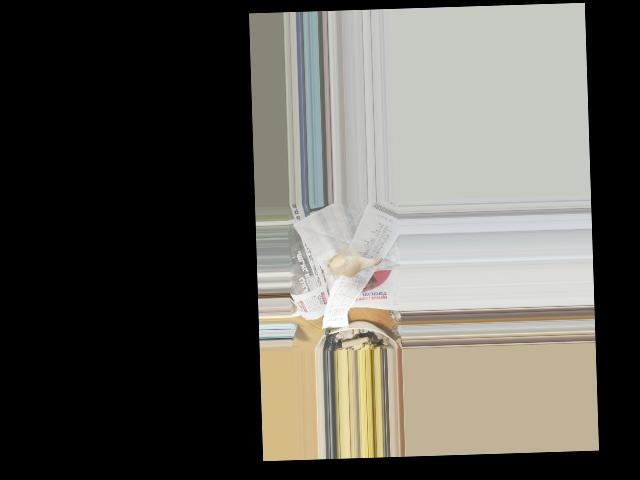onion: (328, 252, 364, 277)
